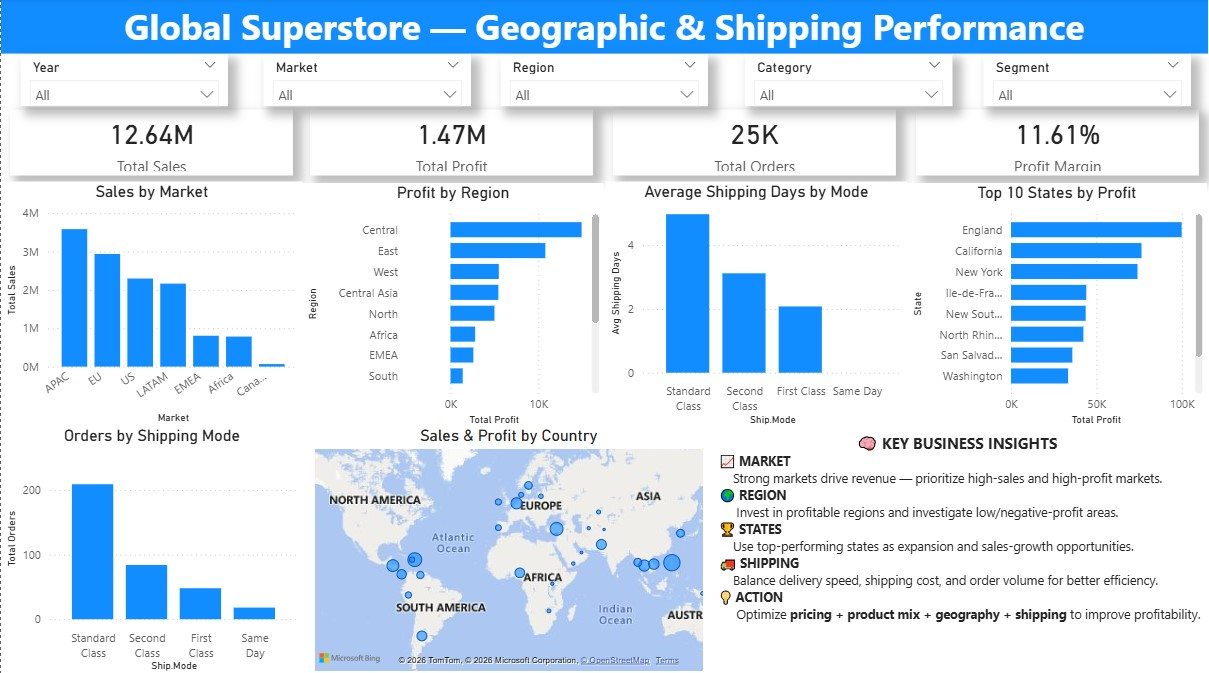

This screenshot's page, from the dashboard's own definition file:
{"tool":"powerbi","page":{"name":"Geographic & Shipping","canvas":[1280,720],"ordinal":4},"visuals":[{"type":"textbox","box":[0,0,1280,60],"z":0},{"type":"card","fields":{"Values":["DateTable.Total Sales"]},"box":[10,120,300,70],"z":1},{"type":"card","fields":{"Values":["DateTable.Total Profit"]},"box":[328.3,120,300,70],"z":2},{"type":"card","fields":{"Values":["DateTable.Total Orders"]},"box":[648.3,120,300,70],"z":3},{"type":"card","fields":{"Values":["DateTable.Profit Margin"]},"box":[970,120,300,70],"z":4},{"type":"slicer","fields":{"Values":["DateTable.Year"]},"box":[20,60,220,55],"z":5},{"type":"slicer","fields":{"Values":["superstore.Market"]},"box":[278.3,60,220,55],"z":6},{"type":"slicer","fields":{"Values":["superstore.Region"]},"box":[530,60,220,55],"z":7},{"type":"slicer","fields":{"Values":["superstore.Category"]},"box":[788.3,60,220,55],"z":8},{"type":"slicer","fields":{"Values":["superstore.Segment"]},"box":[1041.7,60,220,55],"z":9},{"type":"clusteredColumnChart","title":"Sales by Market","fields":{"Y":["DateTable.Total Sales"],"Category":["superstore.Market"]},"box":[0,195.6,320,261],"z":10},{"type":"clusteredColumnChart","title":"Orders by Shipping Mode","fields":{"Y":["DateTable.Total Orders"],"Category":["superstore.Ship.Mode"]},"box":[0,455.4,320,264.6],"z":11},{"type":"clusteredBarChart","title":"Profit by Region","fields":{"Y":["DateTable.Total Profit"],"Category":["superstore.Region"]},"box":[319.4,196.5,319.4,260.8],"z":12},{"type":"clusteredColumnChart","title":"Average Shipping Days by Mode","fields":{"Category":["superstore.Ship.Mode"],"Y":["superstore.Avg Shipping Days"]},"box":[641,195.6,319.7,262.5],"z":13},{"type":"clusteredBarChart","title":"Top 10 States by Profit","fields":{"Y":["DateTable.Total Profit"],"Category":["superstore.State"]},"box":[960.7,197.2,318.1,260.9],"z":14},{"type":"map","title":"Sales & Profit by Country","fields":{"Size":["DateTable.Total Sales"],"Category":["superstore.Country"]},"box":[327.7,454.9,421.5,265.6],"z":15},{"type":"textbox","box":[749.2,456.5,529.7,264],"z":16}]}

Visuals, with their boxes in screenshot pixels (x1, y1, x2, y2), scaled from the page's 1280x720 canvas onto the 1209x673 screenshot:
textbox: bbox=[0, 0, 1208, 56]
card - DateTable.Total Sales: bbox=[9, 112, 293, 178]
card - DateTable.Total Profit: bbox=[310, 112, 593, 178]
card - DateTable.Total Orders: bbox=[612, 112, 896, 178]
card - DateTable.Profit Margin: bbox=[916, 112, 1200, 178]
slicer - DateTable.Year: bbox=[19, 56, 227, 107]
slicer - superstore.Market: bbox=[263, 56, 471, 107]
slicer - superstore.Region: bbox=[501, 56, 708, 107]
slicer - superstore.Category: bbox=[745, 56, 952, 107]
slicer - superstore.Segment: bbox=[984, 56, 1192, 107]
"Sales by Market" clusteredColumnChart: bbox=[0, 183, 302, 427]
"Orders by Shipping Mode" clusteredColumnChart: bbox=[0, 426, 302, 672]
"Profit by Region" clusteredBarChart: bbox=[302, 184, 603, 427]
"Average Shipping Days by Mode" clusteredColumnChart: bbox=[605, 183, 907, 428]
"Top 10 States by Profit" clusteredBarChart: bbox=[907, 184, 1208, 428]
"Sales & Profit by Country" map: bbox=[310, 425, 708, 672]
textbox: bbox=[708, 427, 1208, 672]
